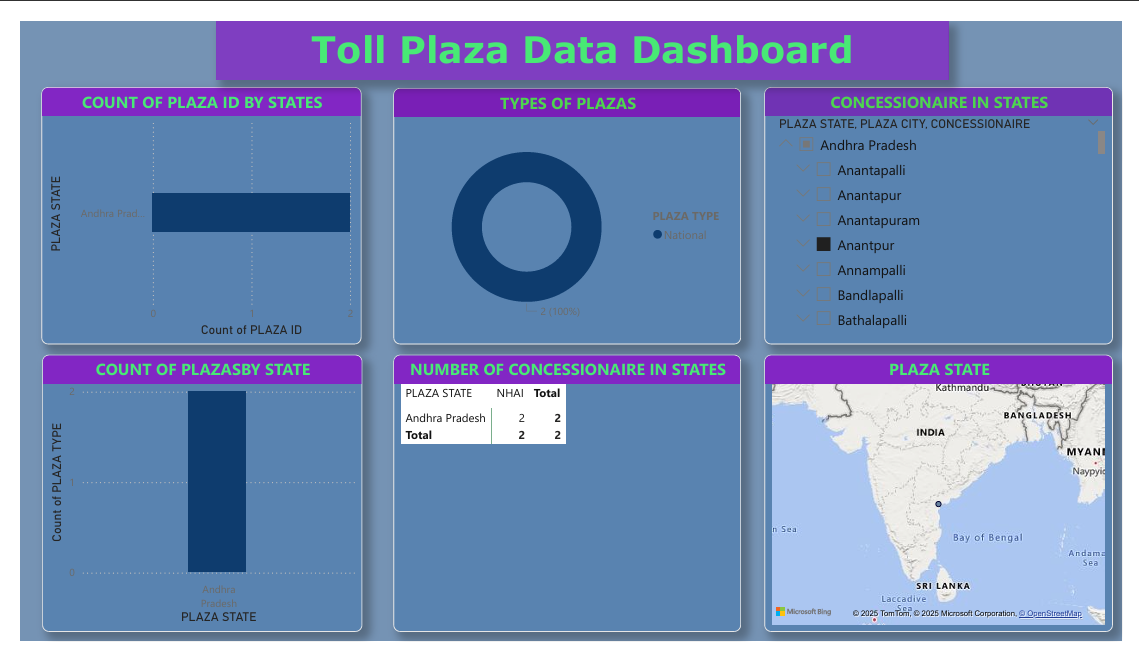

The dashboard page shown, as its layout file describes it:
{"tool":"powerbi","page":{"name":"Detailed view","canvas":[1280,720],"ordinal":0},"visuals":[{"type":"barChart","title":"COUNT OF PLAZA ID BY STATES","fields":{"Y":["CountNonNull(toll_plaza.PLAZA ID)"],"Category":["toll_plaza.PLAZA STATE"]},"box":[23.9,76.1,371.6,298.5],"z":0},{"type":"columnChart","title":"COUNT OF PLAZASBY STATE","fields":{"Category":["toll_plaza.PLAZA STATE"],"Y":["CountNonNull(toll_plaza.PLAZA TYPE)"]},"box":[25.4,386.6,371.6,322.4],"z":1000},{"type":"donutChart","title":"TYPES OF PLAZAS","fields":{"Category":["toll_plaza.PLAZA TYPE"],"Y":["CountNonNull(toll_plaza.PLAZA ID)"]},"box":[433.3,76.7,403.3,298.3],"z":2000},{"type":"pivotTable","title":"NUMBER OF CONCESSIONAIRE IN STATES","fields":{"Rows":["toll_plaza.PLAZA STATE"],"Columns":["toll_plaza.CONCESSIONAIRE"],"Values":["CountNonNull(toll_plaza.PLAZA ID)"]},"box":[432.8,386.6,404.5,322.4],"z":3000},{"type":"slicer","title":"CONCESSIONAIRE IN STATES","fields":{"Values":["toll_plaza.PLAZA STATE","toll_plaza.CONCESSIONAIRE"]},"box":[864.2,76.1,404.5,298.5],"z":4000},{"type":"map","fields":{"Category":["toll_plaza.PLAZA STATE"]},"box":[864.2,386.6,404.5,322.4],"z":5000},{"type":"textbox","box":[226.7,0,851.7,68.3],"z":6000}]}

Visuals, with their boxes in screenshot pixels (x1, y1, x2, y2), scaled from the page's 1280x720 canvas onto the 1139x658 screenshot:
"COUNT OF PLAZA ID BY STATES" barChart: bbox=[21, 70, 352, 342]
"COUNT OF PLAZASBY STATE" columnChart: bbox=[23, 353, 353, 648]
"TYPES OF PLAZAS" donutChart: bbox=[386, 70, 744, 343]
"NUMBER OF CONCESSIONAIRE IN STATES" pivotTable: bbox=[385, 353, 745, 648]
"CONCESSIONAIRE IN STATES" slicer: bbox=[769, 70, 1129, 342]
map - toll_plaza.PLAZA STATE: bbox=[769, 353, 1129, 648]
textbox: bbox=[202, 0, 960, 62]
